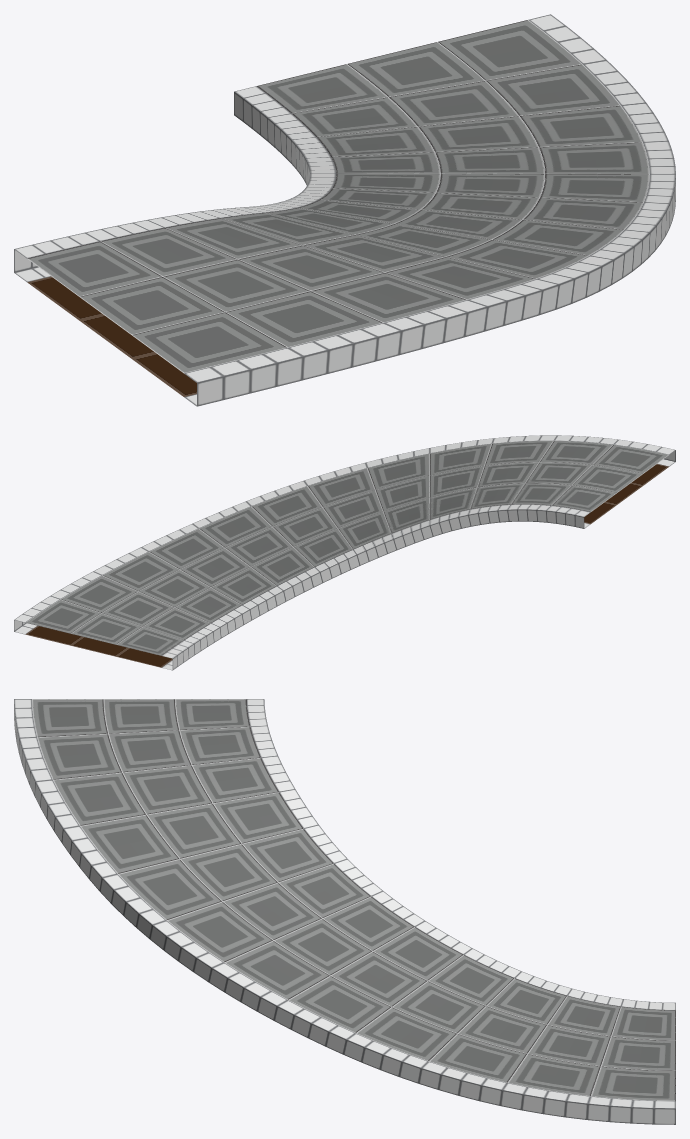
File: SkyDiveCurve1.obj
3 views of the same model, one above another, from view 1: azimuth 30°, elevation 25°; view 2: azimuth 150°, elevation 25°; view 3: azimuth 270°, elevation 25° (orthographic). The views are drawn at different scales.
Parts seen in each view (by area): view 1: Cube_Cube.001; view 2: Cube_Cube.001; view 3: Cube_Cube.001.
Part boxes in pixels (x1,y1,x2,y2): Cube_Cube.001: (14,14,675,406); Cube_Cube.001: (14,435,675,670); Cube_Cube.001: (14,699,675,1124).
Size of the model in its own units: 18.5 by 4.5 by 18.5.
